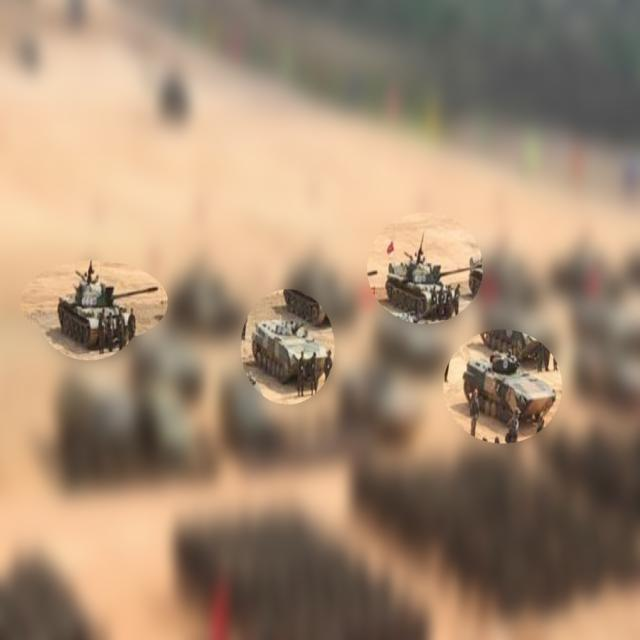tank: (55, 261, 162, 349), (462, 350, 560, 431), (381, 251, 481, 325), (253, 311, 334, 390)
